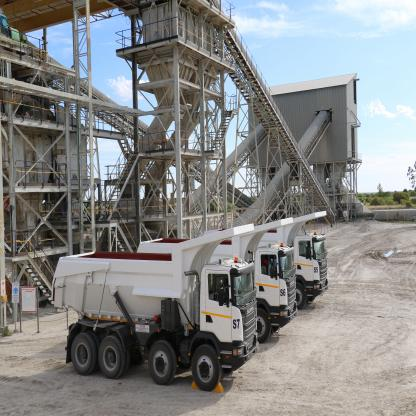dump_truck: (47, 231, 262, 394), (250, 239, 310, 350), (288, 224, 336, 312)
